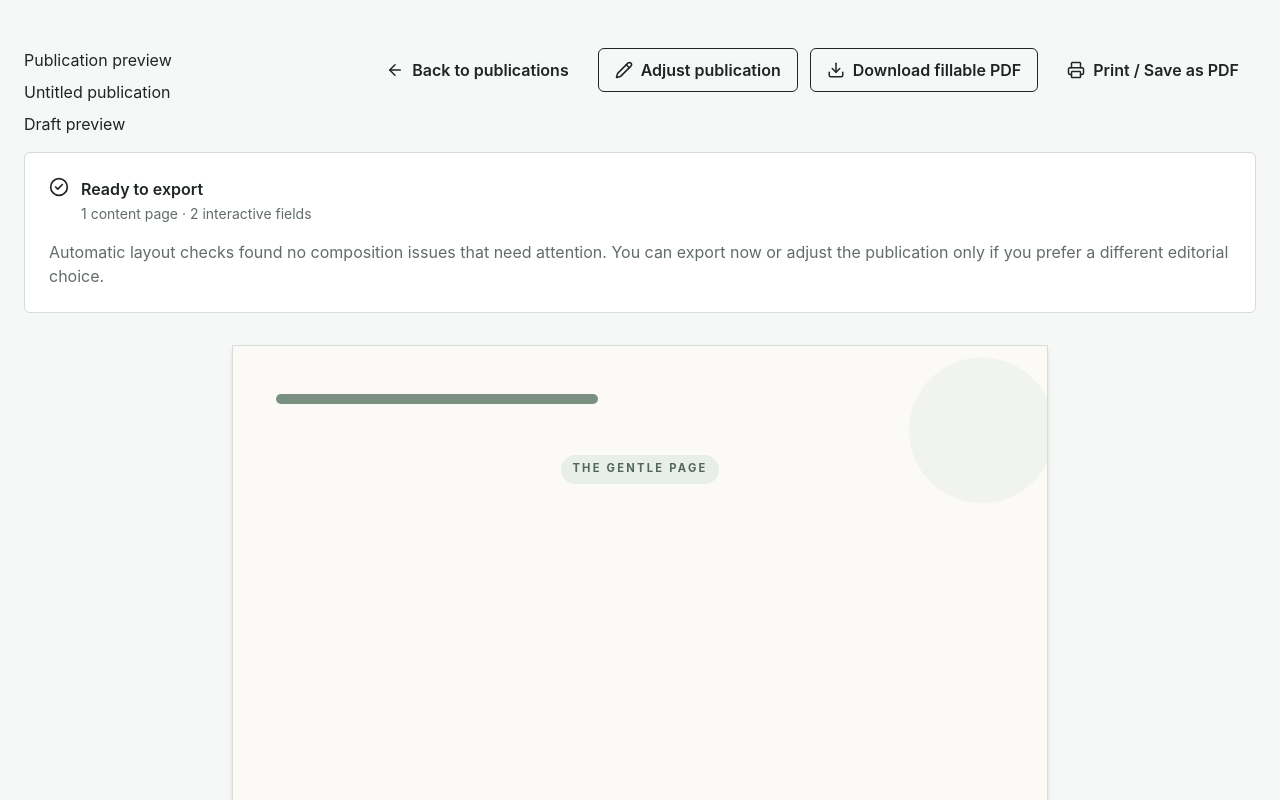
PublicationPreviewPage interactive fields › recovers when fillable PDF generation fails
Click the button "Download fillable PDF": (924, 70) top-left (810, 48), bottom-right (1038, 92)
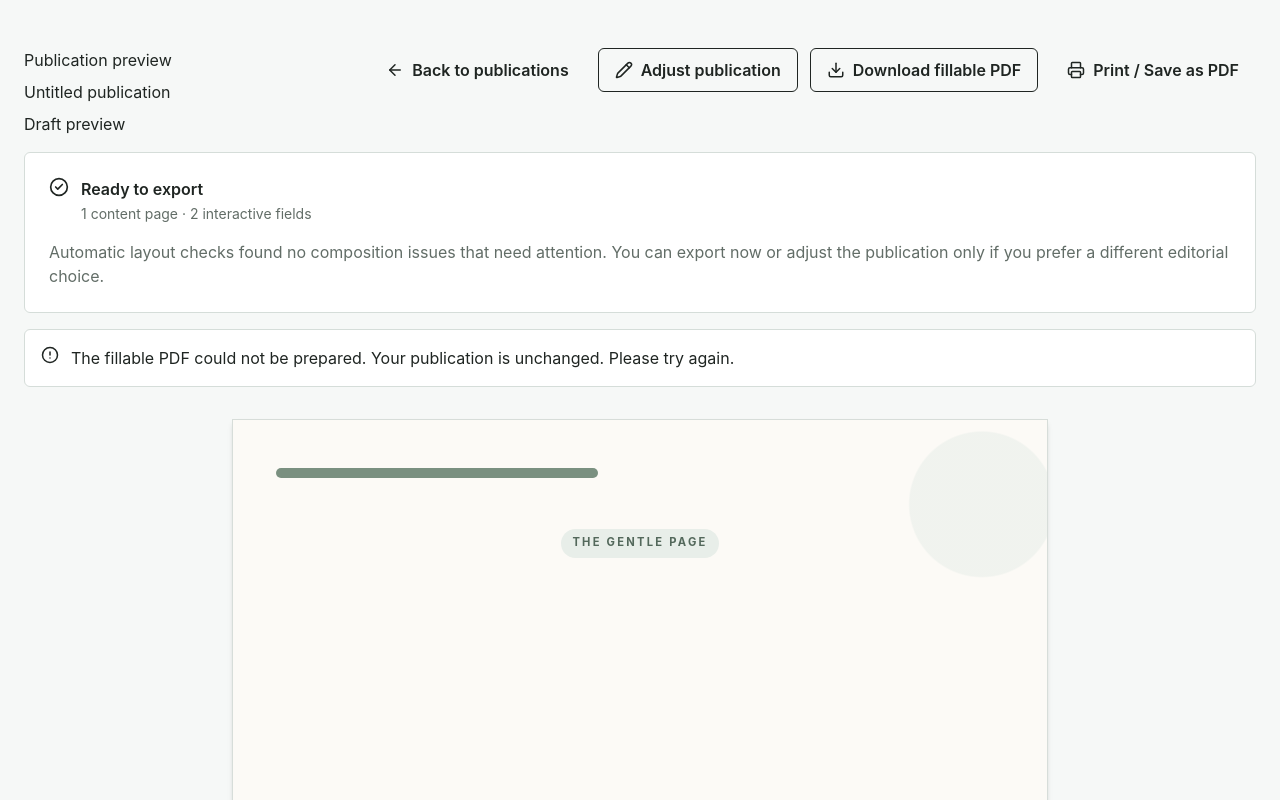
expect the message shows "The fillable PDF could not be prepared. Your publication is unchanged. Please try again.": met, box top-left (71, 348), bottom-right (734, 368)
